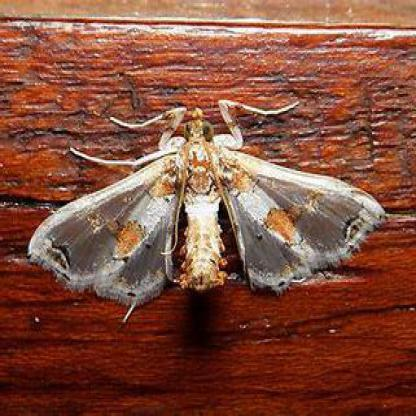leucinodes: (25, 102, 384, 311)
